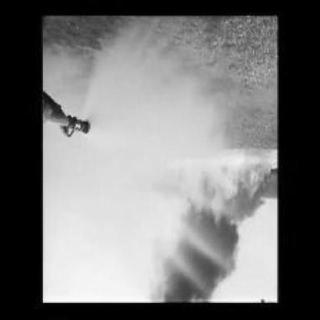Fire: (178, 150, 272, 236)
Smoke: (144, 233, 237, 301)
